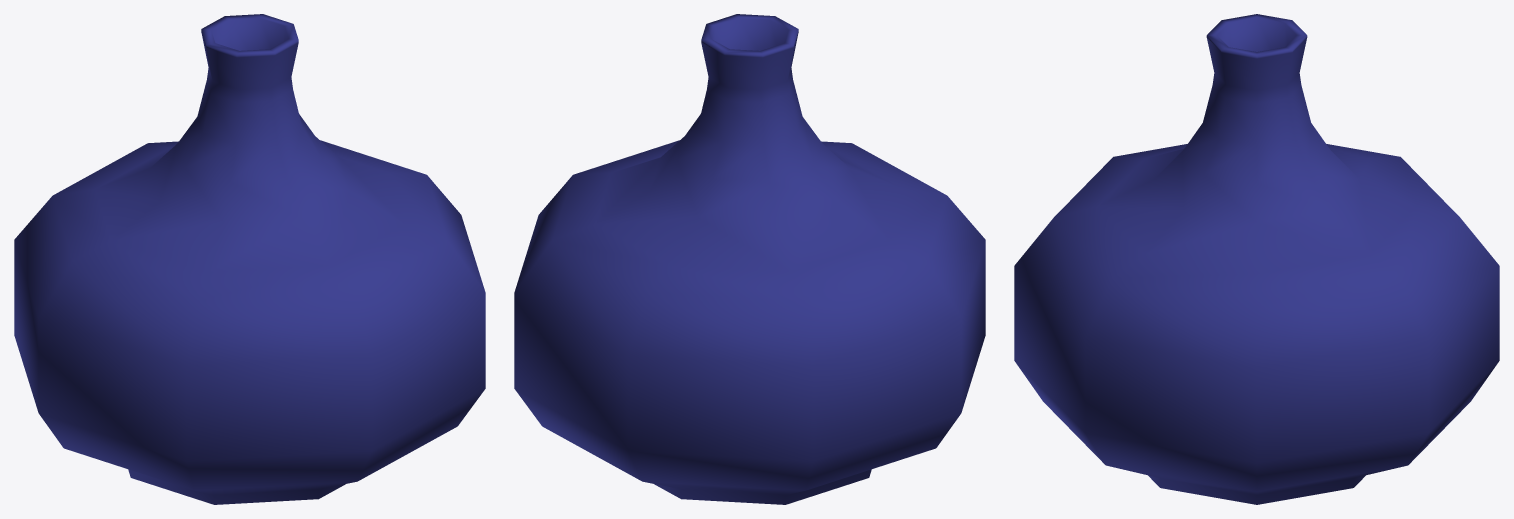
File: Bottle_01.fbx
3 renders of one model, left to right at view 1: azimuth 30°, elevation 25°; view 2: azimuth 150°, elevation 25°; view 3: azimuth 270°, elevation 25°, orthographic.
Visible parts, largest first — view 1: Bottle_01; view 2: Bottle_01; view 3: Bottle_01.
Part boxes in pixels (left/top/right/bottom): Bottle_01: left=14, top=14, right=485, bottom=504; Bottle_01: left=514, top=14, right=985, bottom=504; Bottle_01: left=1014, top=14, right=1499, bottom=504.
Size of the model in its own units: 29.34 by 29.34 by 27.47.
1 material, 1 textured.
